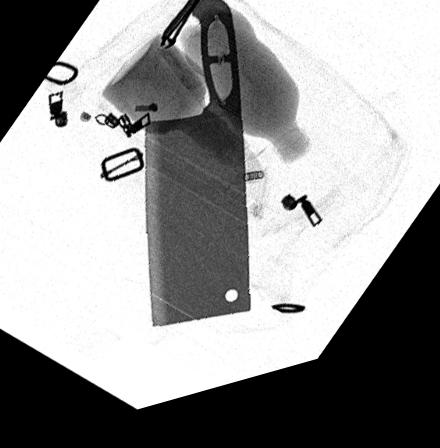Knife: (143, 7, 251, 337)
